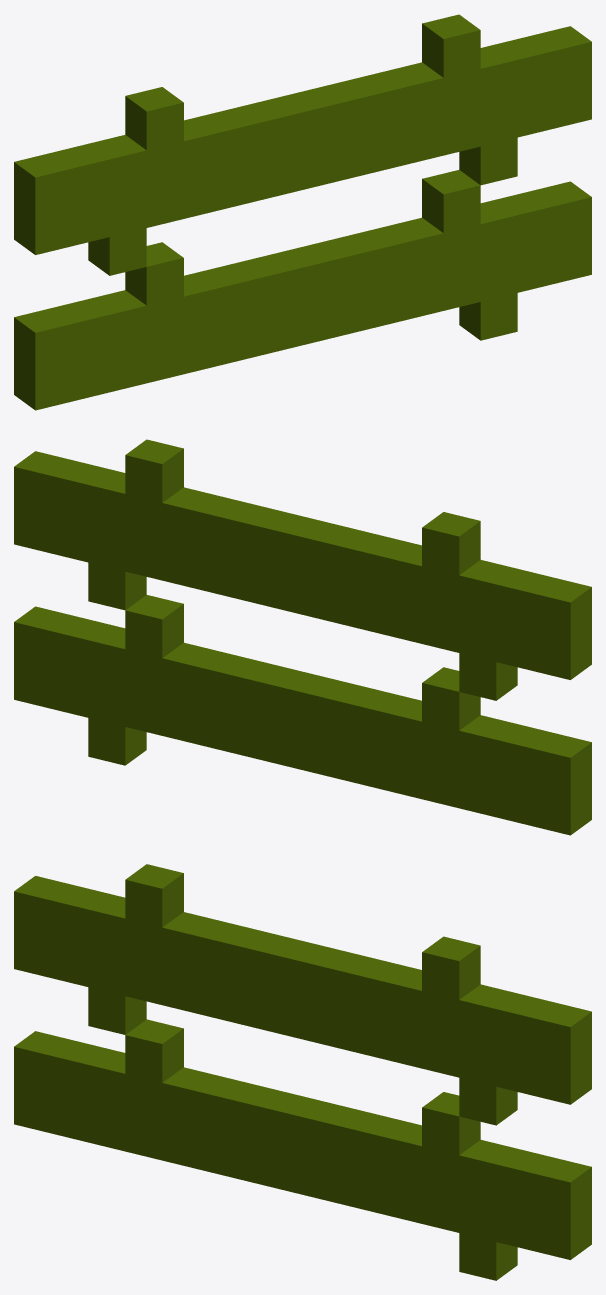
The model's file is MazeTan1FloorRight.vox.obj.
The picture shows the model from 3 angles, top to bottom: view 1: azimuth 30°, elevation 25°; view 2: azimuth 150°, elevation 25°; view 3: azimuth 330°, elevation 25°; orthographic projection.
Size of the model in its own units: 1.5 by 0.8 by 0.1.
Materials: 1 (1 with a texture image).
